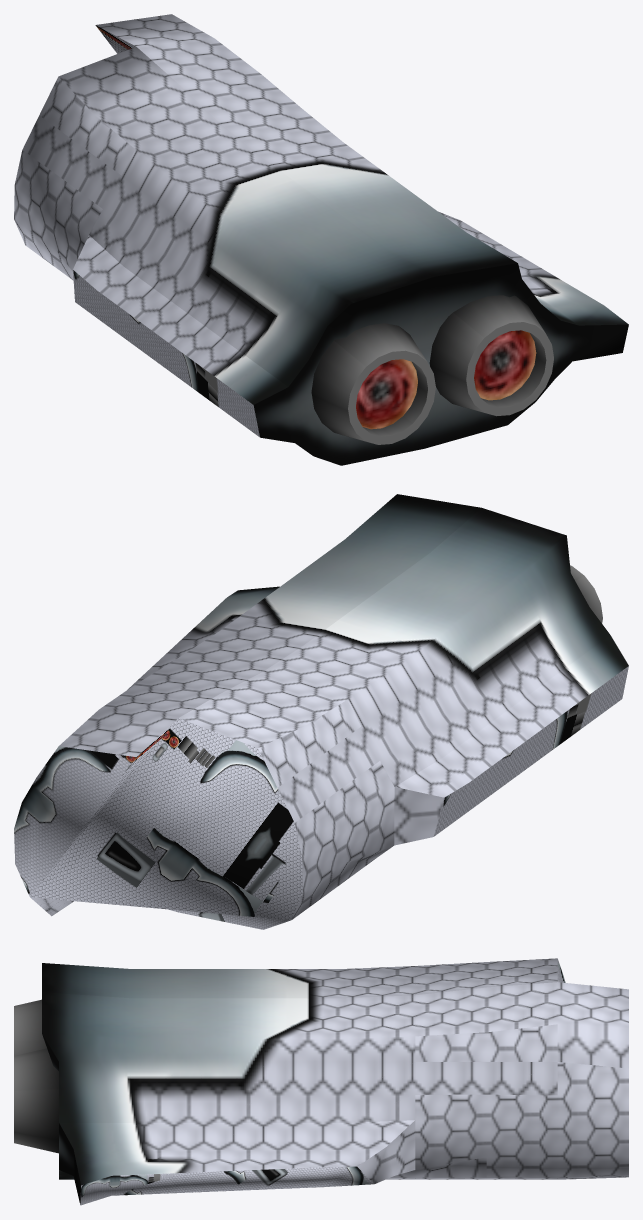
File: StarfighterDestructionPart1.fbx
3 views of the same model, one above another, from view 1: azimuth 30°, elevation 25°; view 2: azimuth 150°, elevation 25°; view 3: azimuth 270°, elevation 25° (orthographic). The views are drawn at different scales.
Parts seen in each view (by area): view 1: polySurface1; view 2: polySurface1; view 3: polySurface1.
Boxes of the visible parts, <box> form: polySurface1: <box>14,14,628,465</box>; polySurface1: <box>14,494,628,929</box>; polySurface1: <box>14,958,628,1205</box>.
Size of the model in its own units: 4.44 by 2.13 by 7.19.
1 material, 1 textured.
